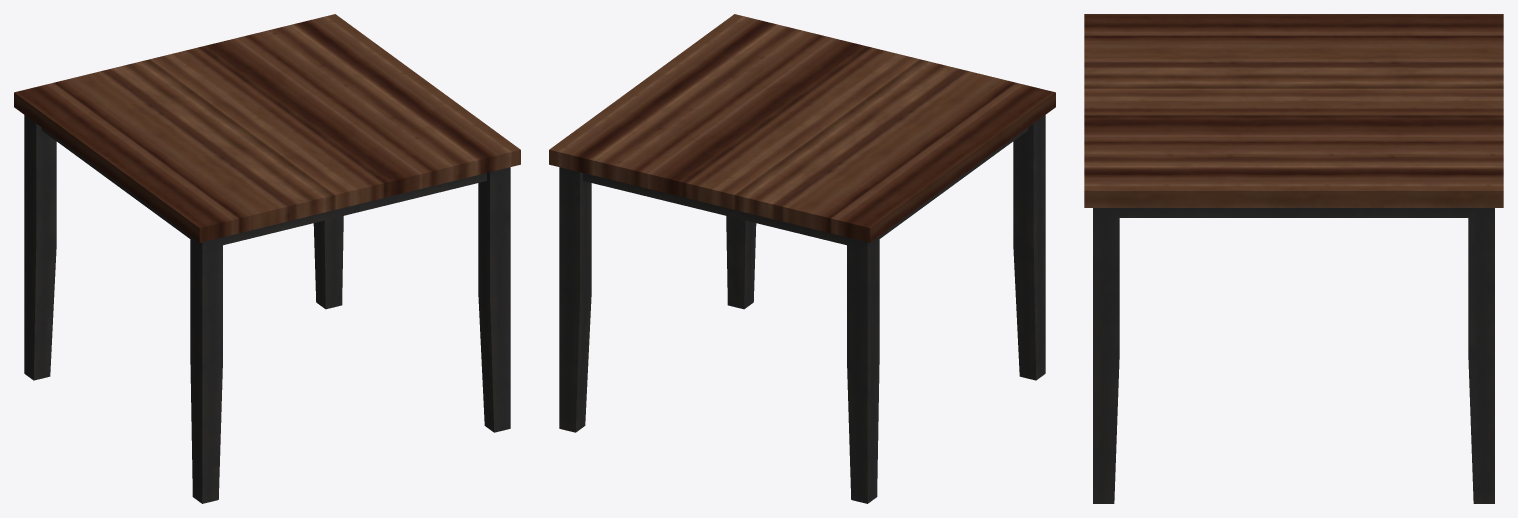
The model's file is ARC0810055.fbx.
3 renders of one model, left to right at view 1: azimuth 30°, elevation 25°; view 2: azimuth 150°, elevation 25°; view 3: azimuth 270°, elevation 25°, orthographic. The views are drawn at different scales.
Parts seen in each view (by area): view 1: smARC0810055; view 2: smARC0810055; view 3: smARC0810055.
Part boxes in pixels (left/top/right/bottom): smARC0810055: left=14, top=14, right=520, bottom=503; smARC0810055: left=549, top=14, right=1055, bottom=503; smARC0810055: left=1084, top=14, right=1503, bottom=503.
Bounding box in the file's own units: 124 × 104 × 124.
Materials: 1 (1 with a texture image).
